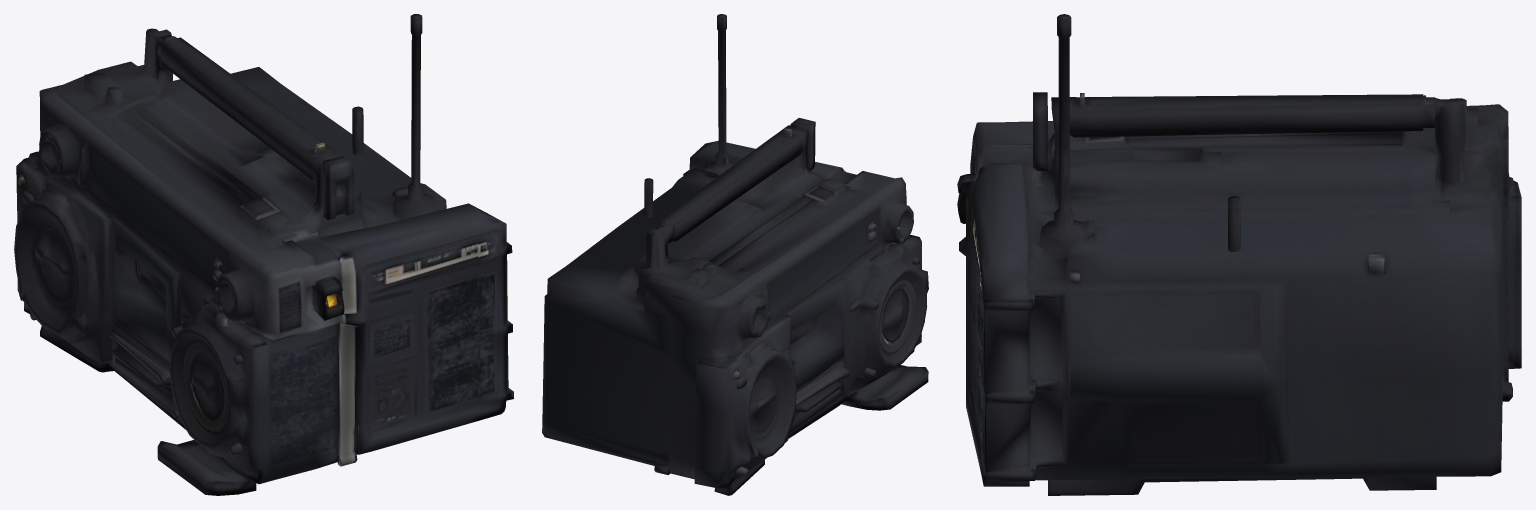
File: Hub_Boombox.glb
3 views of the same model, side by side, from view 1: azimuth 30°, elevation 25°; view 2: azimuth 150°, elevation 25°; view 3: azimuth 270°, elevation 25° (orthographic). The views are drawn at different scales.
Parts seen in each view (by area): view 1: tripo_node_5b6de98a-d7f2-4f9c-a213-b3151ef8ebd3; view 2: tripo_node_5b6de98a-d7f2-4f9c-a213-b3151ef8ebd3; view 3: tripo_node_5b6de98a-d7f2-4f9c-a213-b3151ef8ebd3.
Boxes of the visible parts, x1=… form: tripo_node_5b6de98a-d7f2-4f9c-a213-b3151ef8ebd3: x1=14, y1=14, x2=513, y2=495; tripo_node_5b6de98a-d7f2-4f9c-a213-b3151ef8ebd3: x1=542, y1=14, x2=928, y2=495; tripo_node_5b6de98a-d7f2-4f9c-a213-b3151ef8ebd3: x1=957, y1=14, x2=1521, y2=495.
Size of the model in its own units: 0.6961 by 0.9228 by 1.
1 material, 1 textured.
